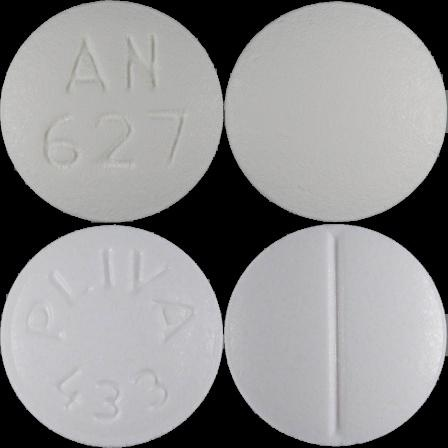33261-105: (0, 0, 224, 224)
